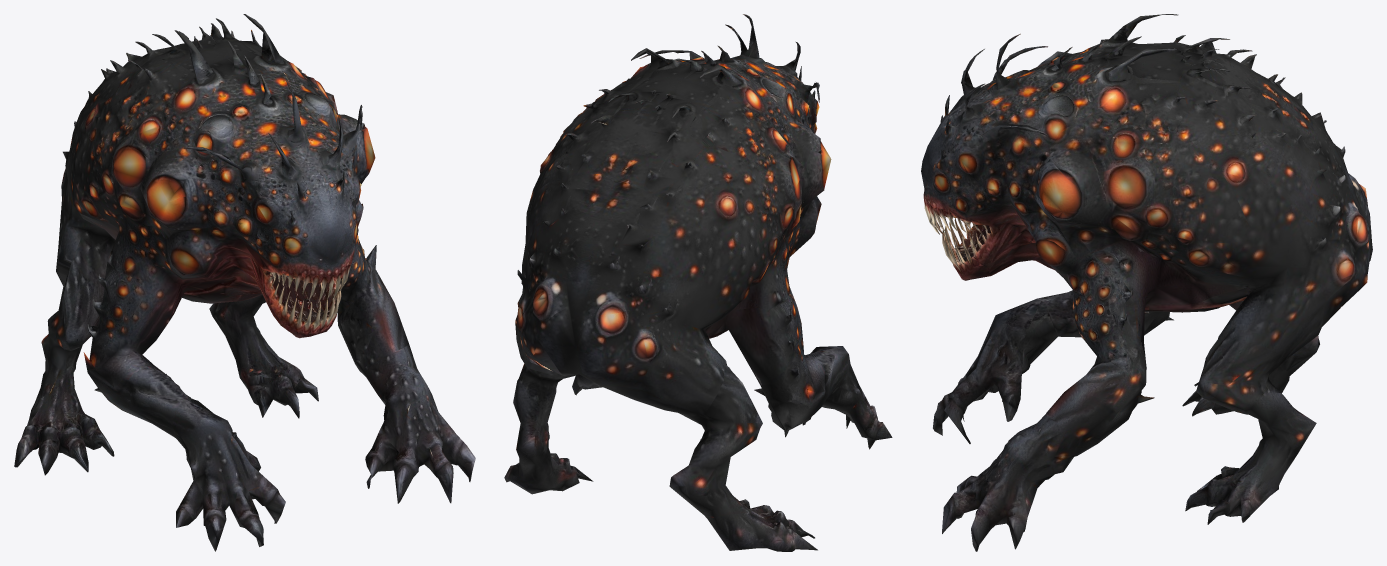
Rendered from mf_devourer.glb.
The picture shows the model from 3 angles, left to right: view 1: azimuth 30°, elevation 25°; view 2: azimuth 150°, elevation 25°; view 3: azimuth 270°, elevation 25°; orthographic projection. The views are drawn at different scales.
Parts seen in each view (by area): view 1: Model; view 2: Model; view 3: Model.
Boxes of the visible parts, x1,y1,x2,y2 form: Model: (14,14,475,551); Model: (504,14,892,551); Model: (921,14,1372,551).
Size of the model in its own units: 1.58 by 1.9 by 1.76.
1 material, 1 textured.
